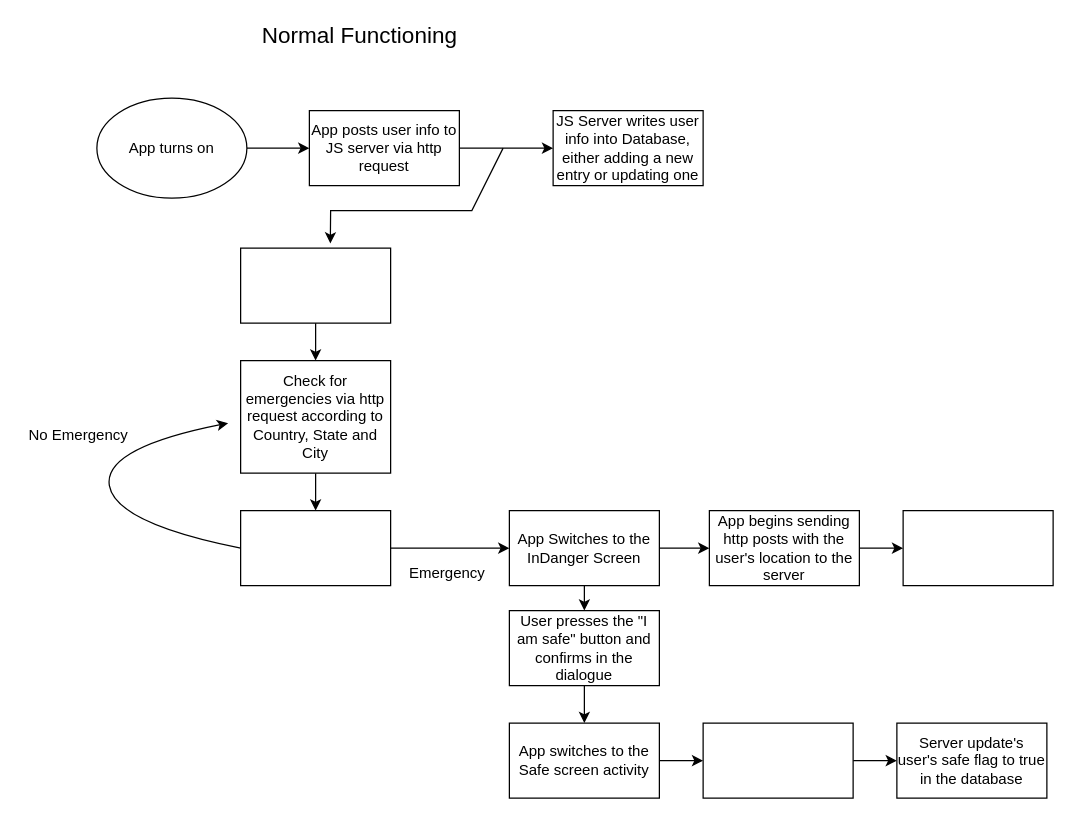
Image size: 1075x820. Some labels were removed from this diagram. The centre of each missing label's shape, as x and y in pixels:
"App Creates a timed task to check for emergencies" belongs at point (315, 285).
"App stops sending location posts and sends deactivation post" belongs at point (777, 760).
"JS server queries Database about city emergency" belongs at point (315, 547).
"Server update's user's safe flag to false in the database" belongs at point (977, 547).
